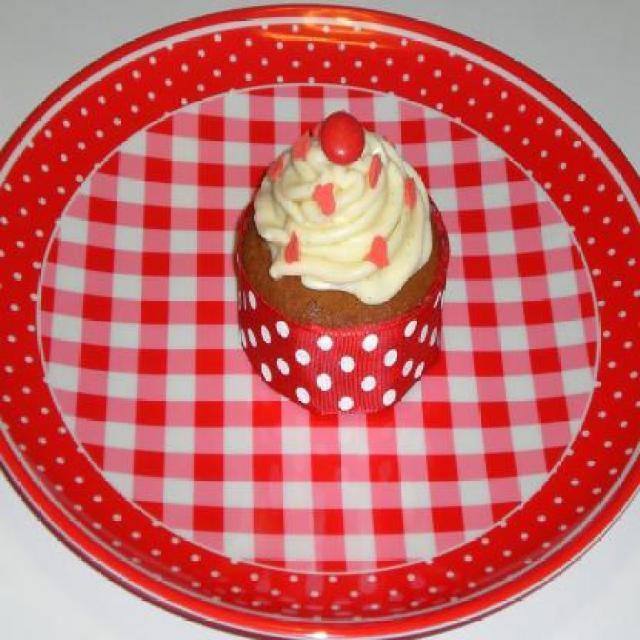Muffin: (236, 116, 449, 407)
